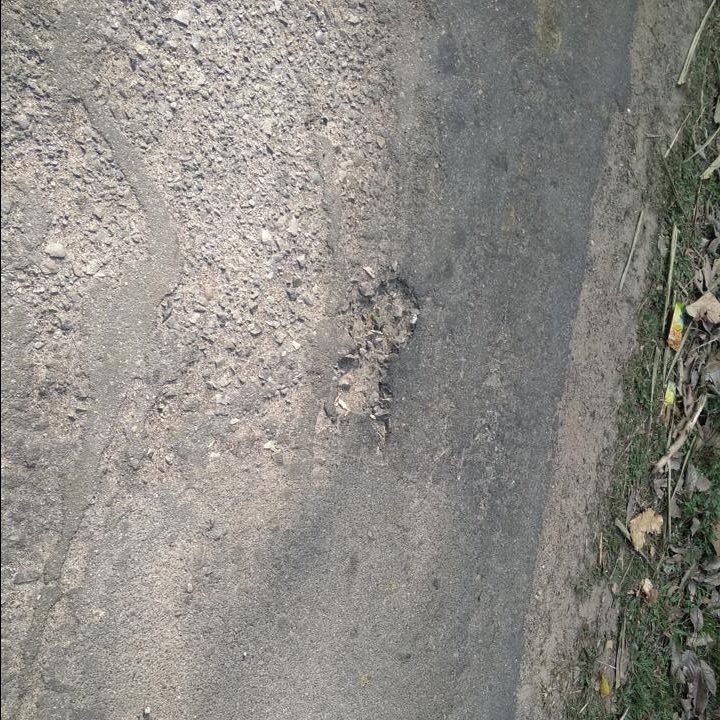pothole: (330, 273, 426, 437)
